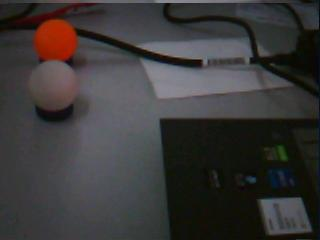oball: (33, 20, 76, 59)
